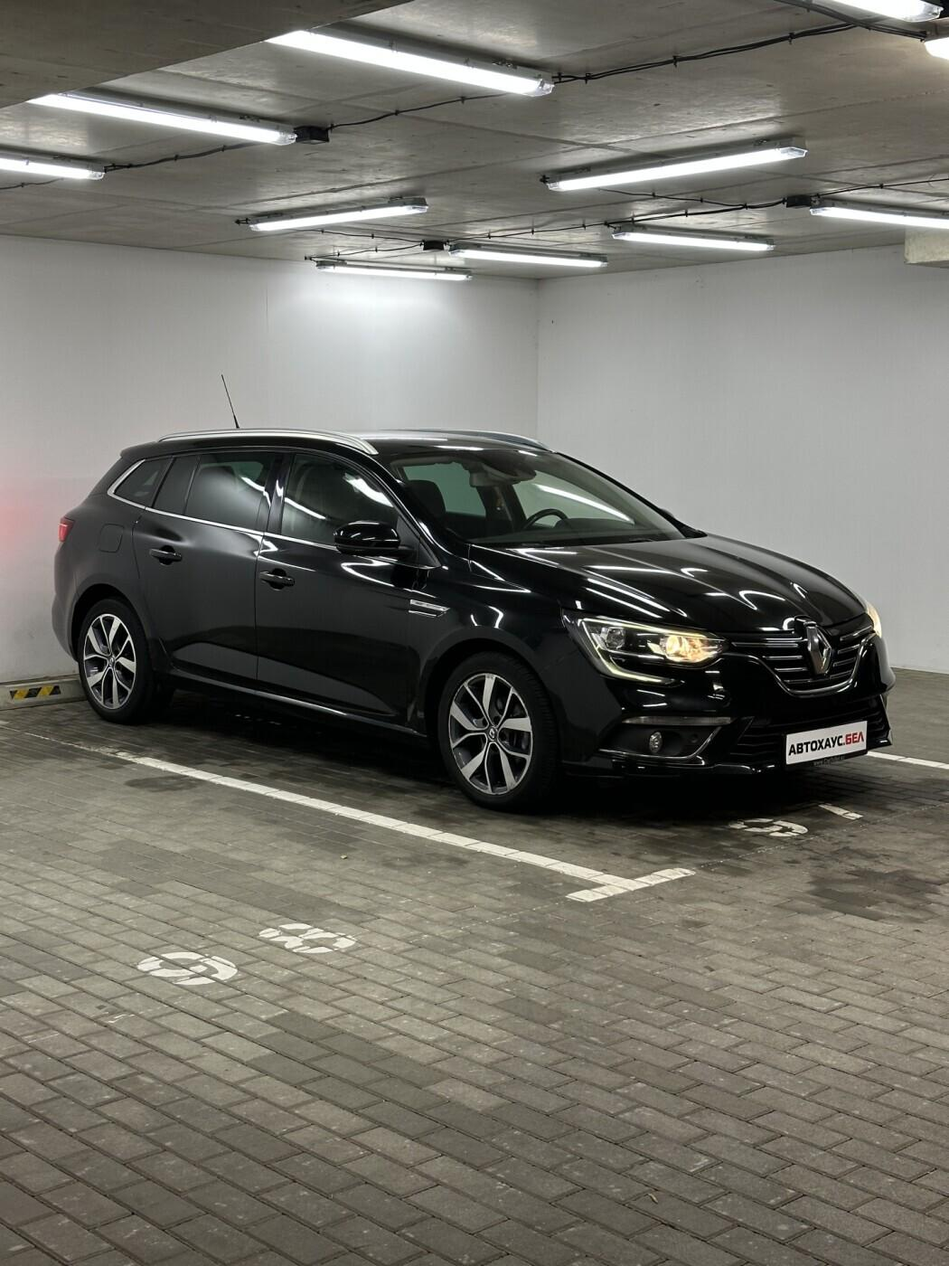Megane_2016-2020: (56, 423, 895, 801)
